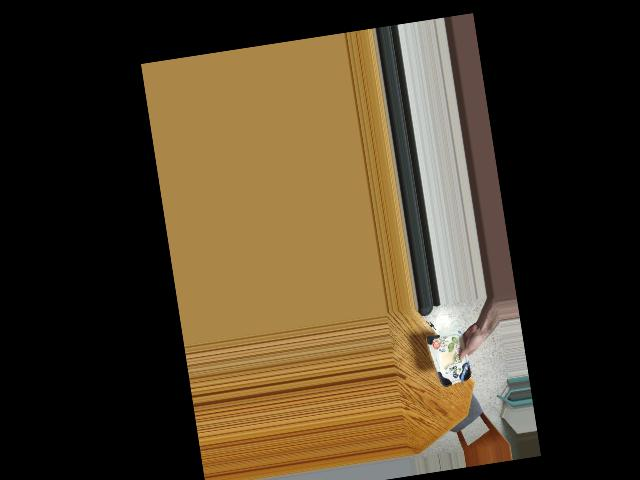cheese: (426, 328, 478, 387)
